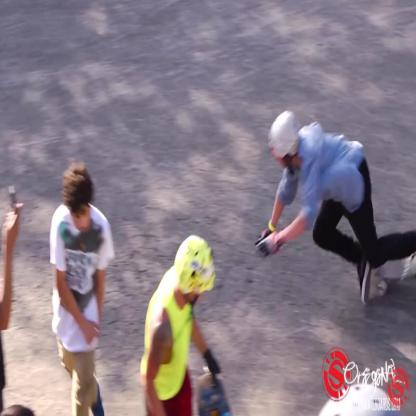Fall_Down: (255, 111, 415, 306)
